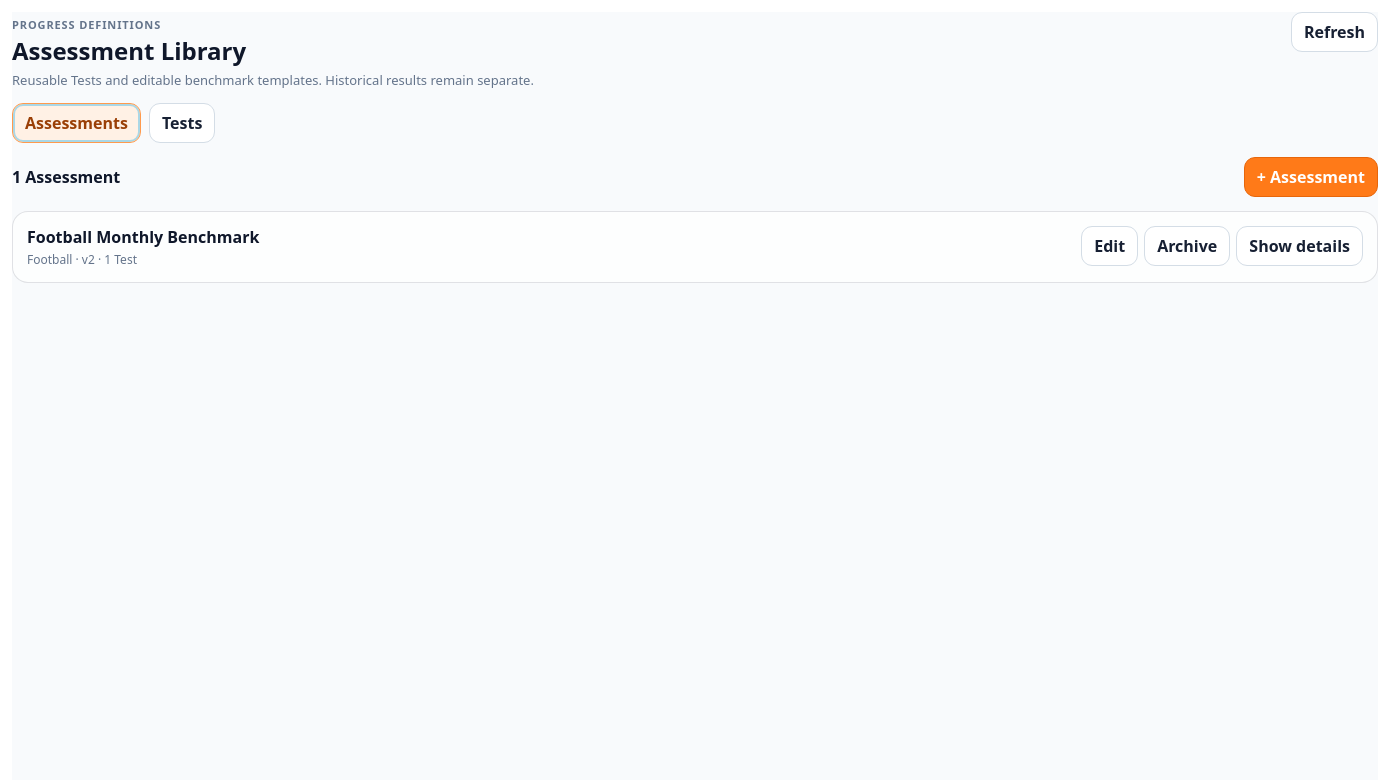
AssessmentTemplateLibrary › opens an existing Assessment with its ordered rows for editing
Expected: the text "Football Monthly Benchmark" is shown, 27,226 -> 259,248
Step 1. Click the button "Edit" → (1110, 246), box 1081,226 -> 1138,266
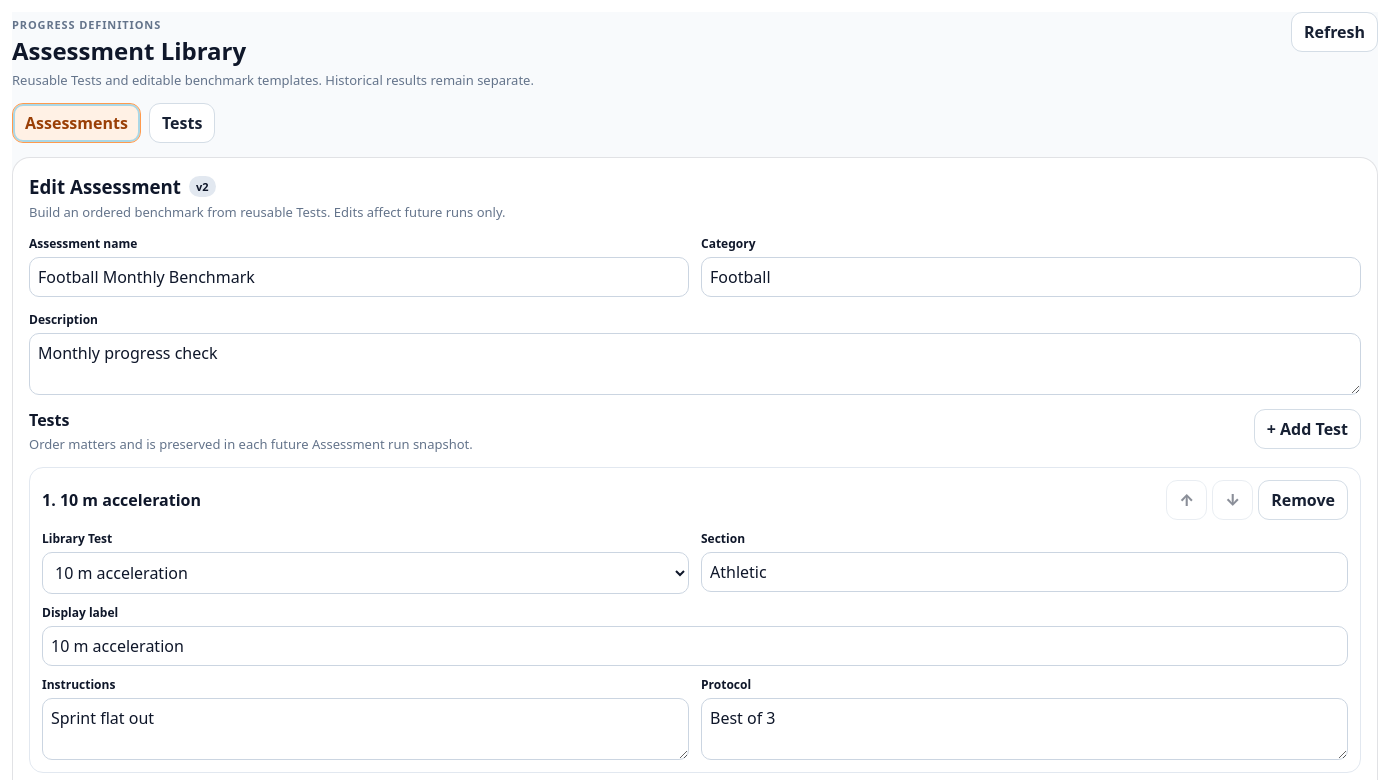
Expected: the text "v2" is shown, 189,176 -> 216,197
Expected: the field labelled "Assessment name" holds "Football Monthly Benchmark", 29,257 -> 689,297
Expected: the dropdown named "Test 1 library Test" shows "10 m acceleration", 42,552 -> 689,594
